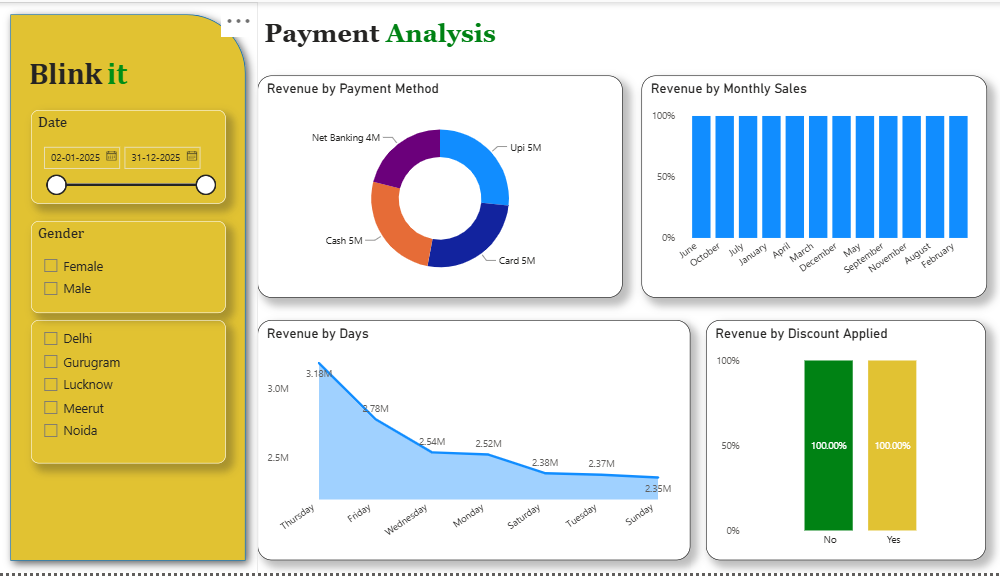

The page's visual inventory and layout, read from the dashboard file:
{"tool":"powerbi","page":{"name":"Page 4","canvas":[1280,720],"ordinal":3},"visuals":[{"type":"donutChart","title":"Revenue by Payment Method","fields":{"Category":["blinkit_clean_customer_behaviour.payment_method"],"Y":["Sum(blinkit_clean_customer_behaviour.purchase_amount)"]},"box":[327.5,92.5,460,280],"z":0},{"type":"areaChart","title":"Revenue by Days","fields":{"Category":["blinkit_clean_customer_behaviour.purchase_day"],"Y":["Sum(blinkit_clean_customer_behaviour.purchase_amount)"]},"box":[327.5,400,545,302.5],"z":1000},{"type":"hundredPercentStackedColumnChart","title":"Revenue by Monthly Sales","fields":{"Category":["blinkit_clean_customer_behaviour.purchase_month"],"Y":["Sum(blinkit_clean_customer_behaviour.purchase_amount)"]},"box":[810,92.5,435,280],"z":2000},{"type":"hundredPercentStackedColumnChart","title":"Revenue by Discount Applied","fields":{"Category":["blinkit_clean_customer_behaviour.discount_applied"],"Y":["Sum(blinkit_clean_customer_behaviour.purchase_amount)"]},"box":[892.5,400,352.5,302.5],"z":3000},{"type":"shape","box":[0,0,327.4,719.5],"z":4000},{"type":"textbox","box":[33.4,62.4,131.4,57.9],"z":5000},{"type":"textbox","box":[131.4,62.4,84.6,57.9],"z":6000},{"type":"slicer","title":"Date","fields":{"Values":["blinkit_clean_customer_behaviour.purchase_date"]},"box":[42.3,135.9,245,118.1],"z":7000},{"type":"slicer","title":"Gender","fields":{"Values":["blinkit_clean_customer_behaviour.gender"]},"box":[42.3,276.2,245,115.8],"z":8000},{"type":"slicer","fields":{"Values":["blinkit_clean_customer_behaviour.city"]},"box":[42.3,400.9,245,180.4],"z":9000},{"type":"textbox","box":[330,15,382.5,65],"z":9001}]}

Visuals, with their boxes in screenshot pixels (x1, y1, x2, y2), scaled from the page's 1280x720 canvas onto the 1000x576 screenshot:
"Revenue by Payment Method" donutChart: Rect(256, 74, 615, 298)
"Revenue by Days" areaChart: Rect(256, 320, 682, 562)
"Revenue by Monthly Sales" hundredPercentStackedColumnChart: Rect(633, 74, 973, 298)
"Revenue by Discount Applied" hundredPercentStackedColumnChart: Rect(697, 320, 973, 562)
shape: Rect(0, 0, 256, 575)
textbox: Rect(26, 50, 129, 96)
textbox: Rect(103, 50, 169, 96)
"Date" slicer: Rect(33, 109, 224, 203)
"Gender" slicer: Rect(33, 221, 224, 314)
slicer - blinkit_clean_customer_behaviour.city: Rect(33, 321, 224, 465)
textbox: Rect(258, 12, 557, 64)
